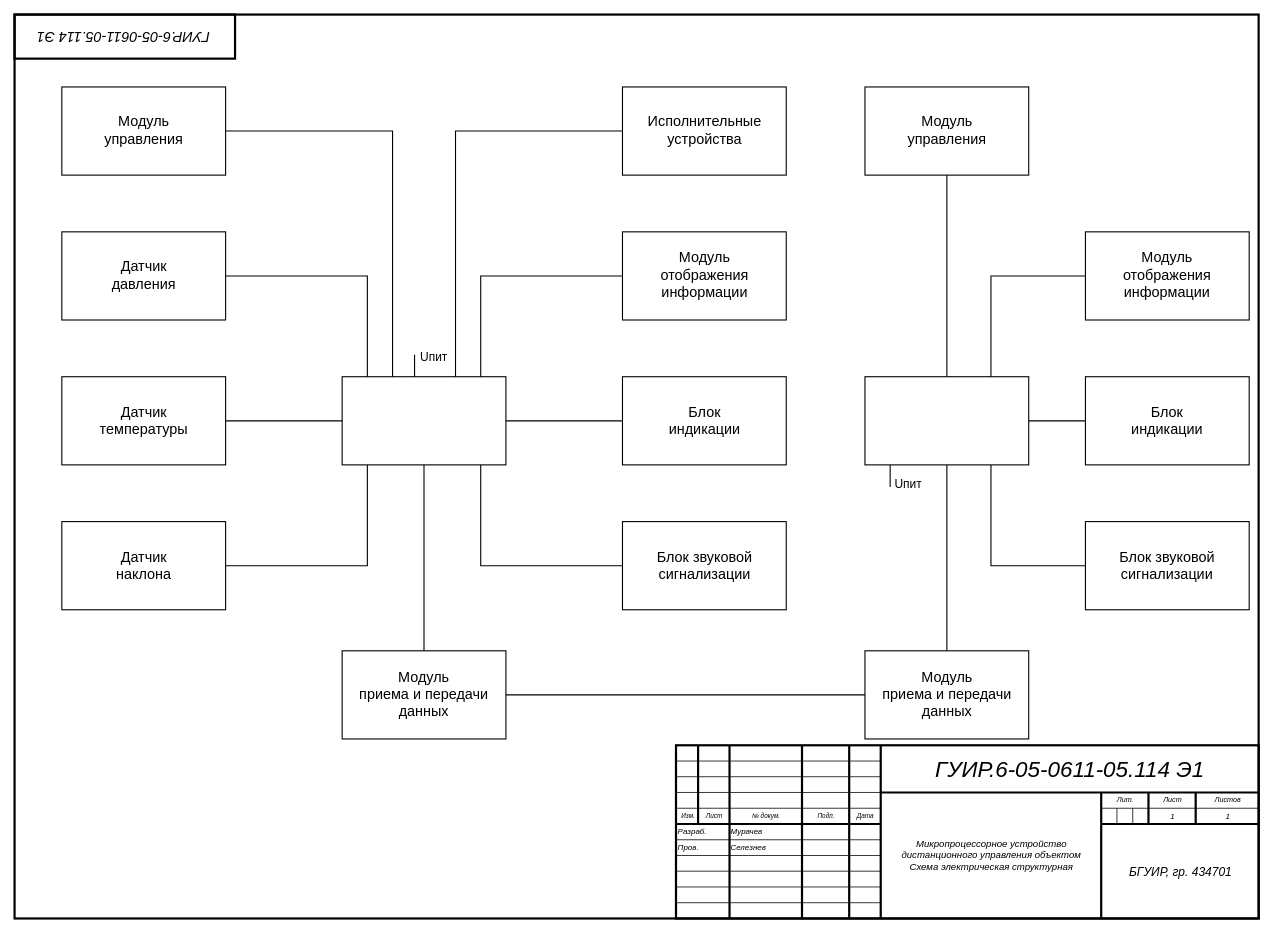
Image size: 1274x934. Some labels were removed from this diagram. Here are the shapes that lost their labels. From the top down, the centre of each, then its label:
At (x=423, y=420): "Микроконтроллер устройства контроля".
At (x=946, y=420): "Микроконтроллер устройства удаленного управления".
